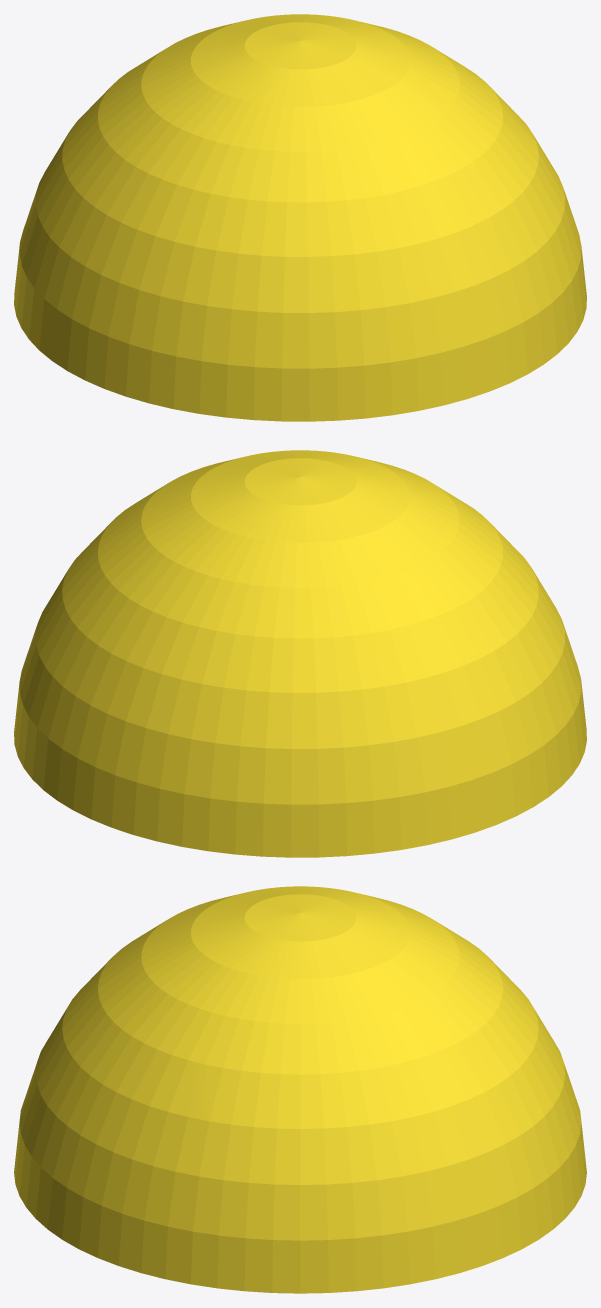
File: cupola.glb
3 renders of one model, top to bottom at view 1: azimuth 30°, elevation 25°; view 2: azimuth 150°, elevation 25°; view 3: azimuth 270°, elevation 25°, orthographic.
Parts seen in each view (by area): view 1: Sphere; view 2: Sphere; view 3: Sphere.
Boxes of the visible parts, <box> form: Sphere: <box>14,14,586,421</box>; Sphere: <box>14,450,586,857</box>; Sphere: <box>14,886,586,1293</box>.
Bounding box in the file's own units: 0.9119 × 0.4559 × 0.9119.
